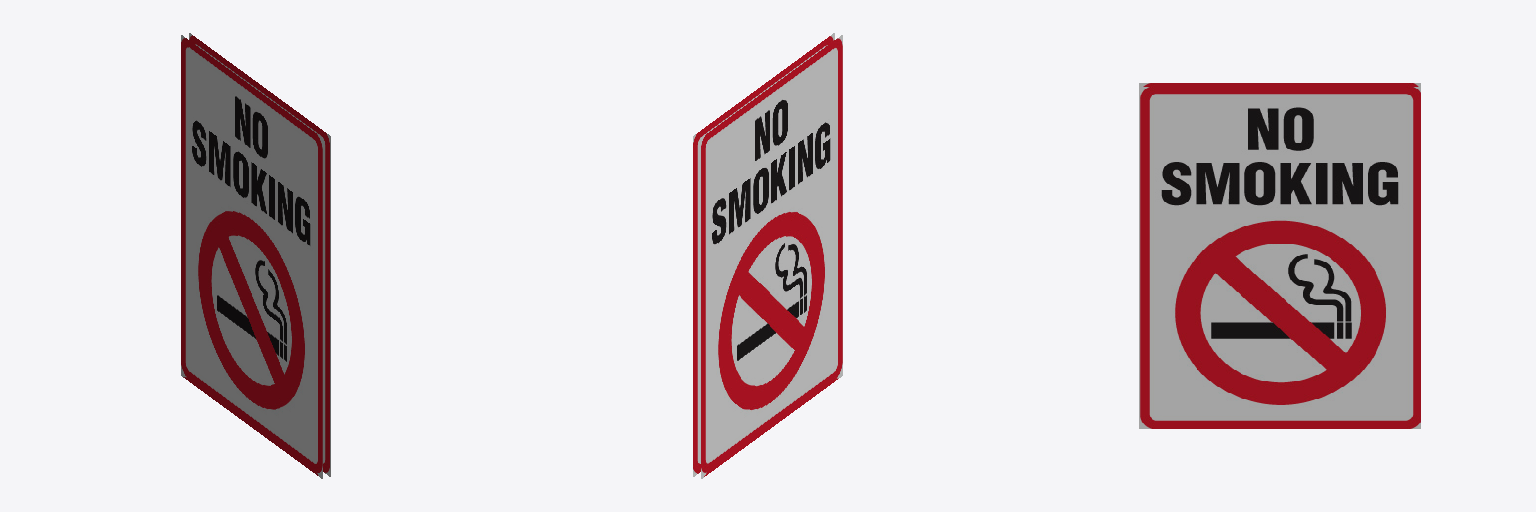
3 renders of one model, left to right at view 1: azimuth 30°, elevation 25°; view 2: azimuth 150°, elevation 25°; view 3: azimuth 270°, elevation 25°, orthographic.
Parts seen in each view (by area): view 1: Cube_Cube.001; view 2: Cube_Cube.001; view 3: Cube_Cube.001.
Part boxes in pixels (bbox=[...]): Cube_Cube.001: bbox=[181, 33, 330, 478]; Cube_Cube.001: bbox=[693, 33, 842, 478]; Cube_Cube.001: bbox=[1139, 83, 1420, 428].
Bounding box in the file's own units: 0.0049 × 0.2 × 0.15.
Materials: 1 (1 with a texture image).